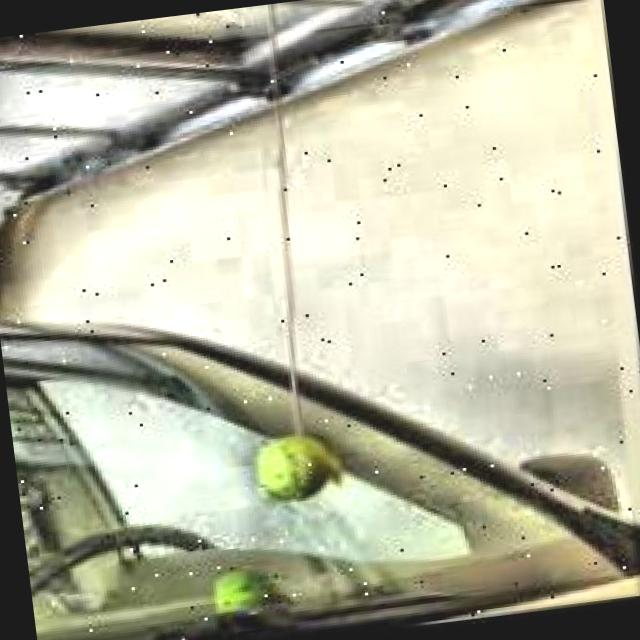Tennis Ball: (258, 434, 348, 520), (216, 565, 301, 634)
